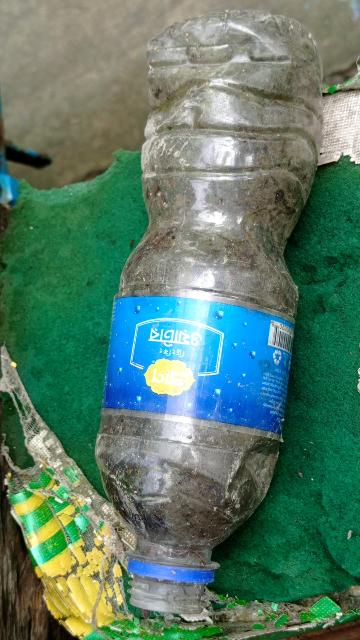bottle: (80, 0, 331, 609)
